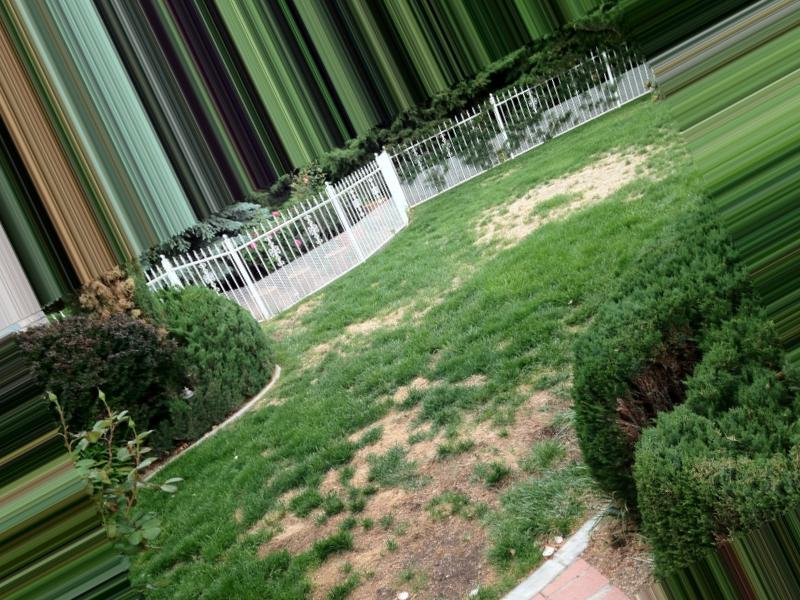patch: (319, 476, 471, 600), (408, 390, 554, 474), (375, 427, 462, 479), (278, 503, 359, 555), (503, 203, 561, 227), (596, 159, 639, 177), (561, 180, 606, 197)
